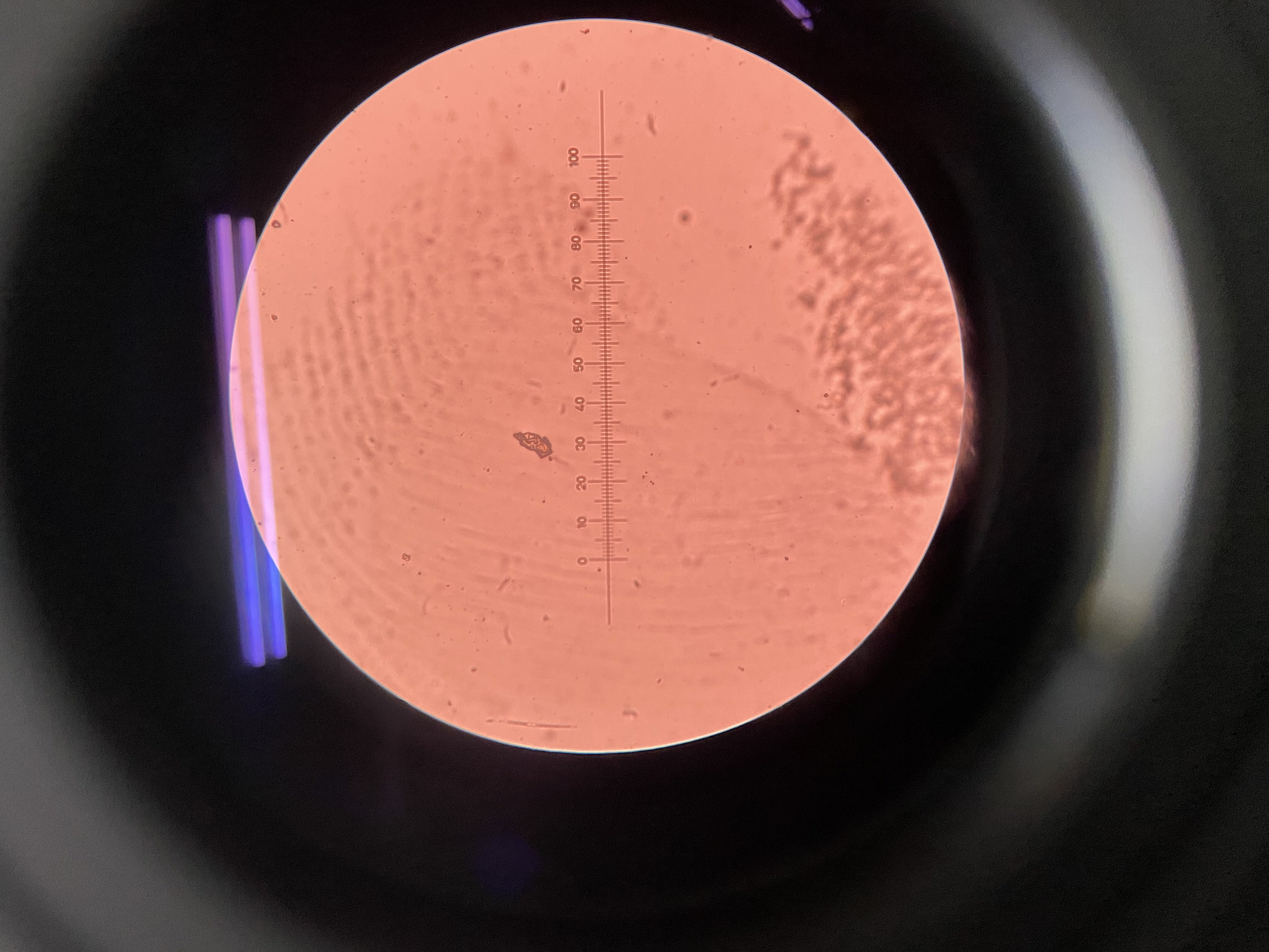microplastic: (758, 129, 989, 500), (509, 431, 556, 464), (671, 206, 697, 230)
